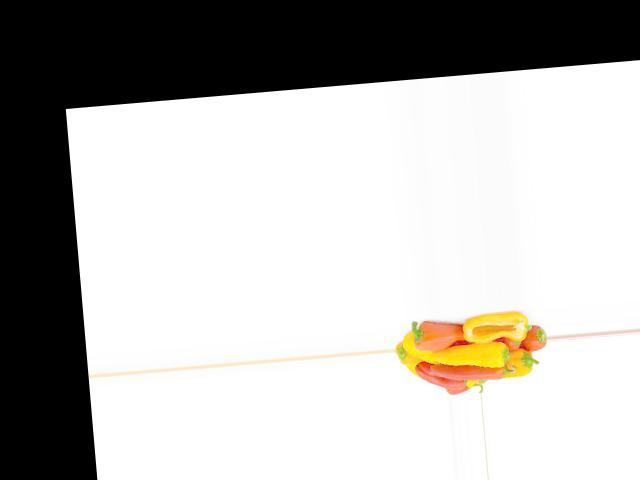bell_pepper: (503, 325, 548, 358)
